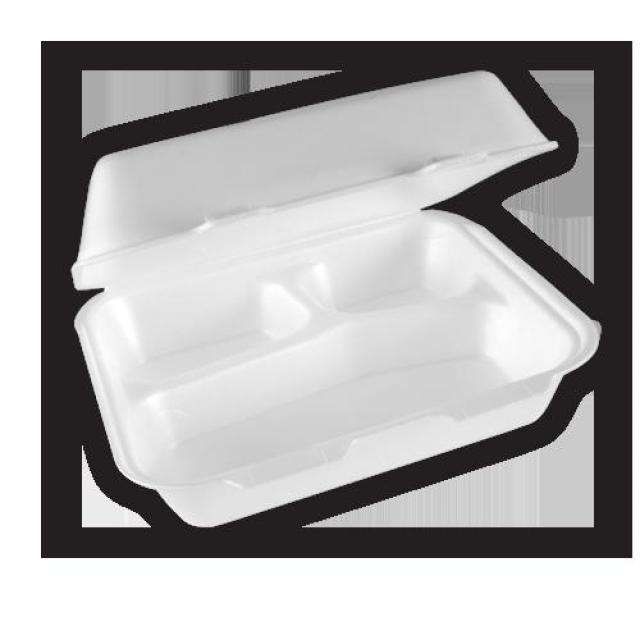styrofoam: (69, 68, 599, 527), (69, 67, 559, 289)
